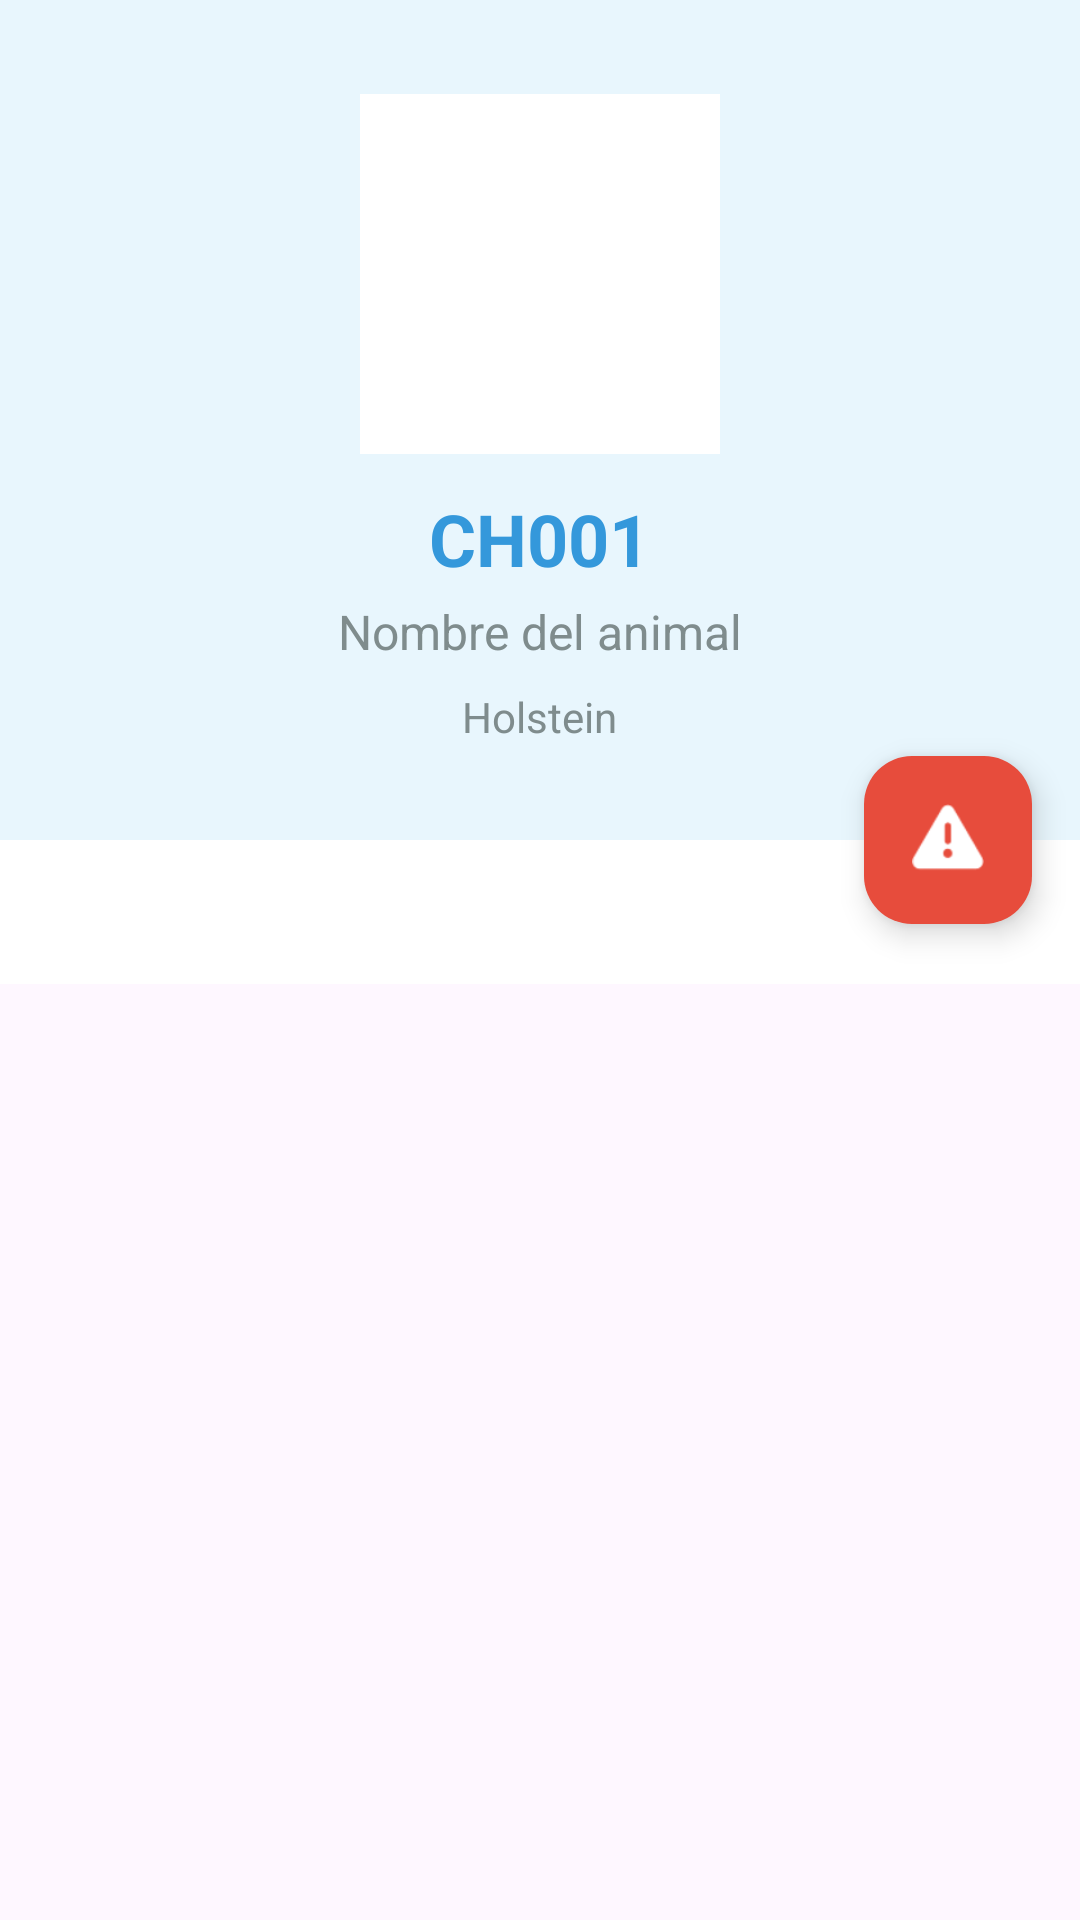

Locate icon controls on the screen. Image size 1080x1920, boxes as bbox(x1, y1, x2, y2).
alert: bbox(864, 756, 1032, 924)
